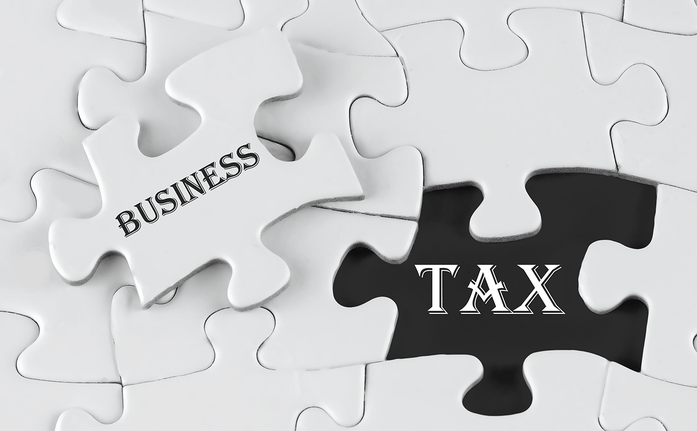puzzle piece: (330, 155, 678, 420), (36, 44, 356, 315)
